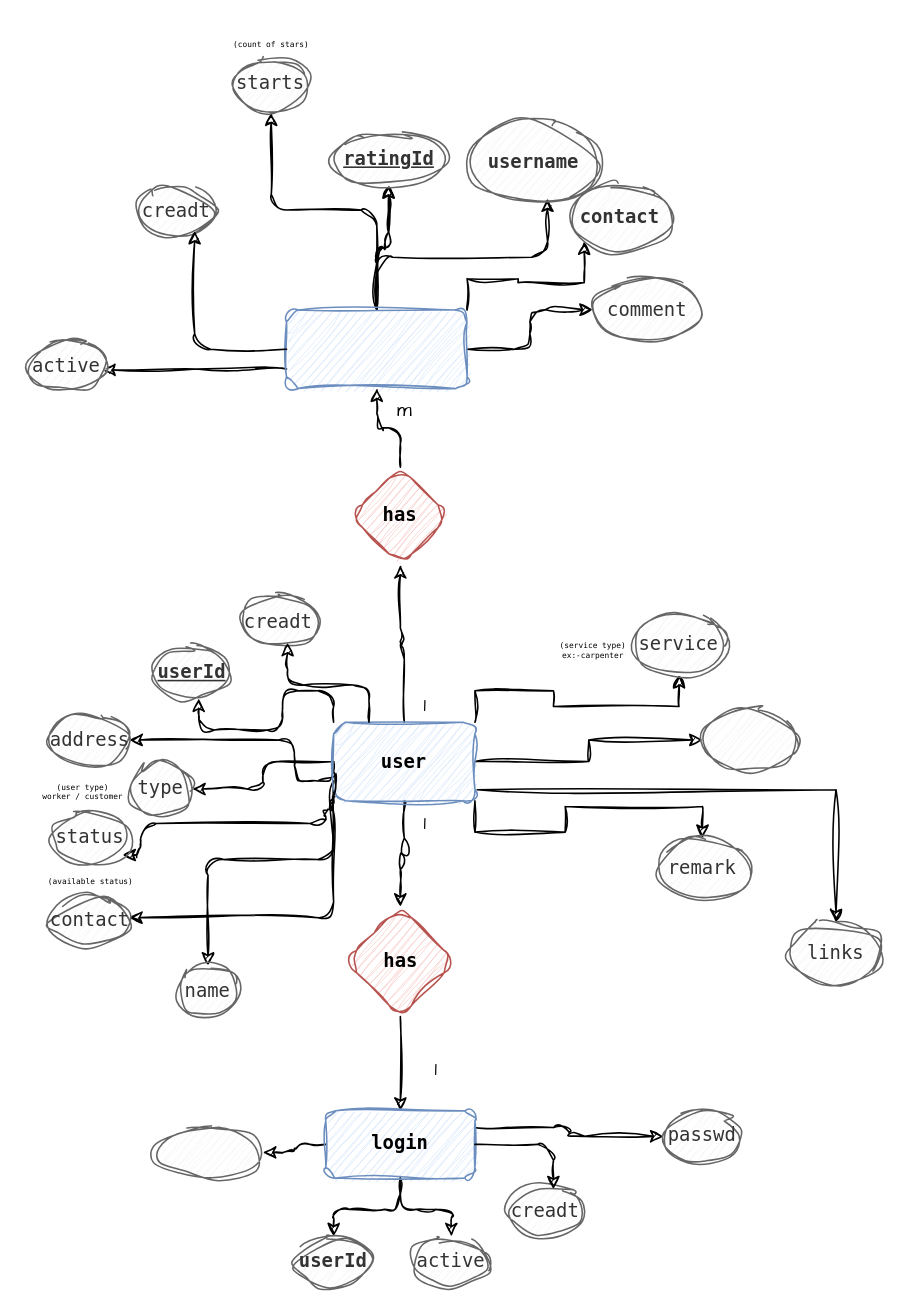
This 911x1314 diagram has some shape labels left out. Here are the shapes that lost their labels. From the top down, the box of each, then its label:
(285, 309, 467, 389): rate
(701, 707, 797, 771): service area
(152, 1125, 263, 1178): loginId
